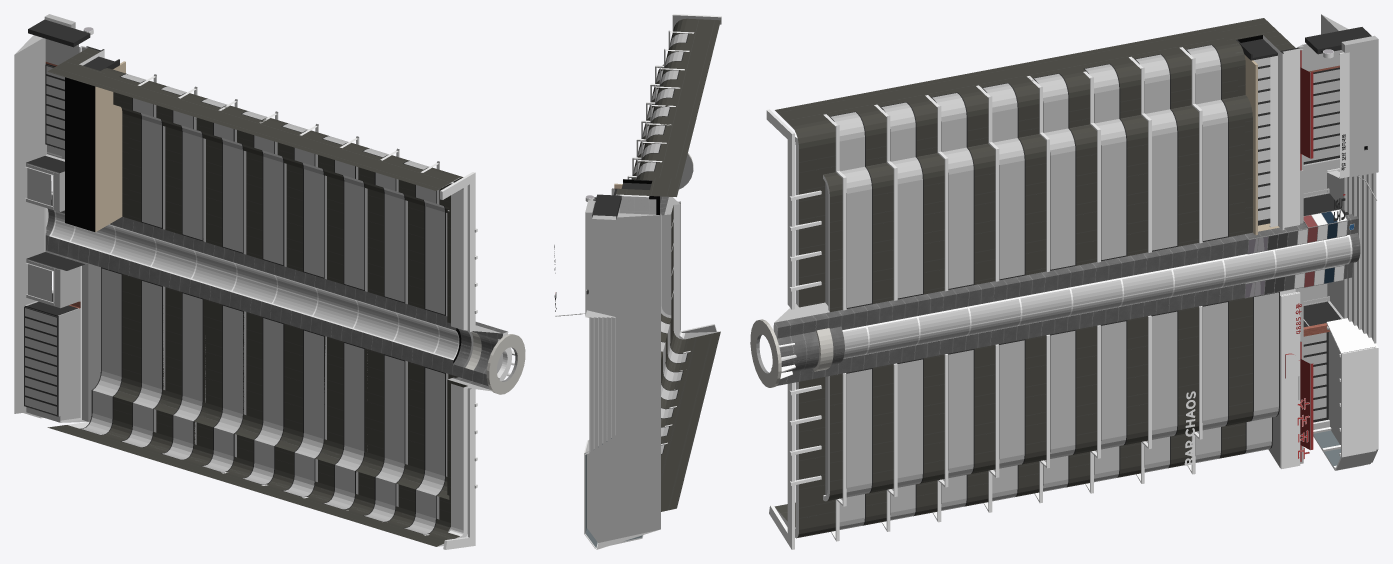
The model's file is 우측건물1.fbx.
The picture shows the model from 3 angles, left to right: view 1: azimuth 30°, elevation 25°; view 2: azimuth 150°, elevation 25°; view 3: azimuth 270°, elevation 25°; orthographic projection. The views are drawn at different scales.
Visible parts, largest first — view 1: Group_66678, Group_65889, Group_66348, 단층_허브빌딩_2_2, 단층_허브빌딩_2_4, 단층_허브빌딩_2, 단층_허브빌딩_2_6, Group_66080, 단층_허브빌딩_2_5, 단층_허브빌딩_2_3, 단층_허브빌딩_2_1, 창문_원형_7_6 (+40 smaller); view 2: Group_66348, Group_66678, Group_65889, 단층_허브빌딩_2_1, 단층_허브빌딩_2_2, 단층_허브빌딩_2_3, 단층_허브빌딩_2_4, 단층_허브빌딩_2_5, 단층_허브빌딩_2_6, 단층_허브빌딩_2, Group_66530, Group_66351 (+10 smaller); view 3: Group_66678, Group_66348, 단층_허브빌딩_2_4, 단층_허브빌딩_2_2, 단층_허브빌딩_2_3, 단층_허브빌딩_2_5, 단층_허브빌딩_2_1, 단층_허브빌딩_2, 단층_허브빌딩_2_6, 창문_원형_8_1, 창문_원형_8, 창문_원형_8_2 (+64 smaller).
Part boxes in pixels (box(x1,y1,x2,y2)): Group_66678: box(371, 157, 512, 546); Group_65889: box(47, 48, 128, 439); Group_66348: box(14, 14, 75, 413); 단층_허브빌딩_2_2: box(290, 132, 371, 514); 단층_허브빌딩_2_4: box(209, 107, 290, 489); 단층_허브빌딩_2: box(88, 70, 169, 452); 단층_허브빌딩_2_6: box(128, 82, 209, 464); Group_66080: box(25, 39, 88, 422); 단층_허브빌딩_2_5: box(169, 94, 249, 476); 단층_허브빌딩_2_3: box(249, 119, 330, 501); 단층_허브빌딩_2_1: box(330, 144, 411, 526); 창문_원형_7_6: box(242, 317, 284, 484); Group_66348: box(585, 200, 660, 549); Group_66678: box(653, 18, 720, 369); Group_65889: box(616, 177, 681, 511); 단층_허브빌딩_2_1: box(649, 48, 713, 387); 단층_허브빌딩_2_2: box(644, 67, 708, 405); 단층_허브빌딩_2_3: box(640, 85, 704, 424); 단층_허브빌딩_2_4: box(635, 103, 699, 442); 단층_허브빌딩_2_5: box(631, 122, 694, 459); 단층_허브빌딩_2_6: box(633, 140, 690, 477); 단층_허브빌딩_2: box(636, 159, 685, 494); Group_66530: box(592, 194, 621, 219); Group_66351: box(584, 440, 643, 548); Group_66678: box(771, 94, 892, 538); Group_66348: box(1321, 14, 1378, 462); 단층_허브빌딩_2_4: box(1010, 56, 1092, 493); 단층_허브빌딩_2_2: box(908, 75, 990, 512); 단층_허브빌딩_2_3: box(959, 66, 1041, 503); 단층_허브빌딩_2_5: box(1061, 46, 1143, 484); 단층_허브빌딩_2_1: box(857, 85, 939, 522); 단층_허브빌딩_2: box(1162, 27, 1244, 465); 단층_허브빌딩_2_6: box(1112, 37, 1193, 474); 창문_원형_8_1: box(1185, 44, 1228, 241); 창문_원형_8: box(829, 111, 872, 308); 창문_원형_8_2: box(880, 102, 923, 299).
Size of the model in its own units: 779 by 1075 by 1421.
